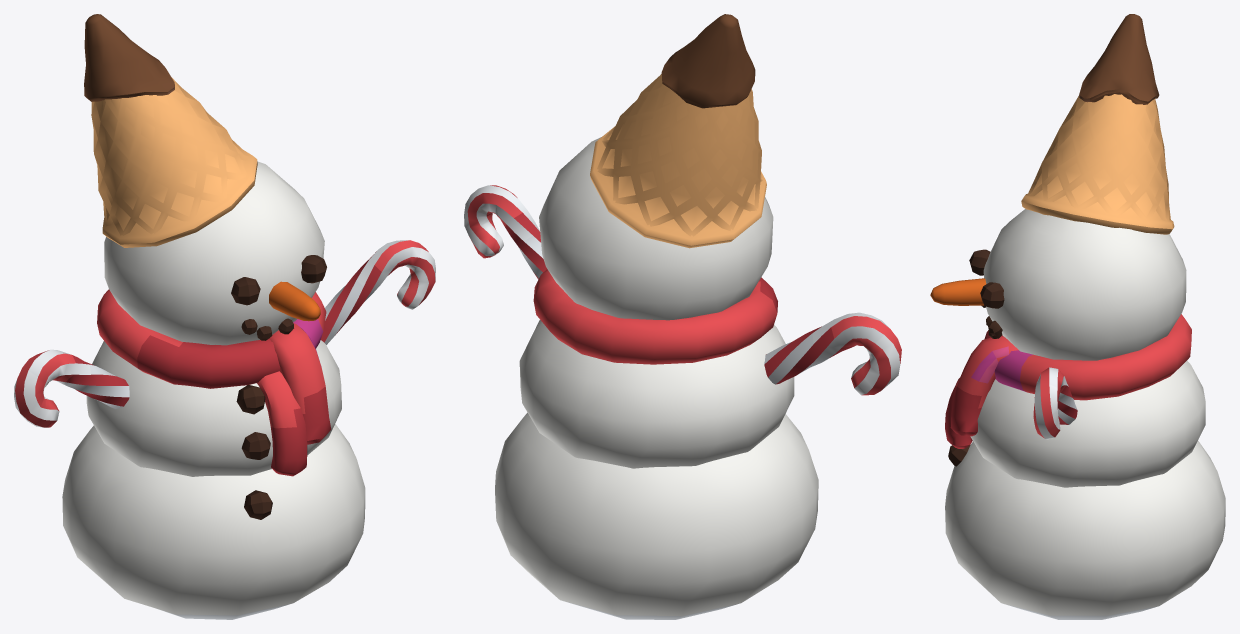
File: boneco_neve_natal_cachecol_pacote.glb
The picture shows the model from 3 angles, left to right: view 1: azimuth 30°, elevation 25°; view 2: azimuth 150°, elevation 25°; view 3: azimuth 270°, elevation 25°; orthographic projection. The views are drawn at different scales.
Visible parts, largest first — view 1: boneco_neve_natal_cachecol_pacote; view 2: boneco_neve_natal_cachecol_pacote; view 3: boneco_neve_natal_cachecol_pacote.
Part boxes in pixels (<box>): boneco_neve_natal_cachecol_pacote: <box>14,14,435,619</box>; boneco_neve_natal_cachecol_pacote: <box>464,14,901,619</box>; boneco_neve_natal_cachecol_pacote: <box>930,14,1225,619</box>.
Size of the model in its own units: 1.22 by 1.64 by 0.8137.
Materials: 1 (1 with a texture image).
